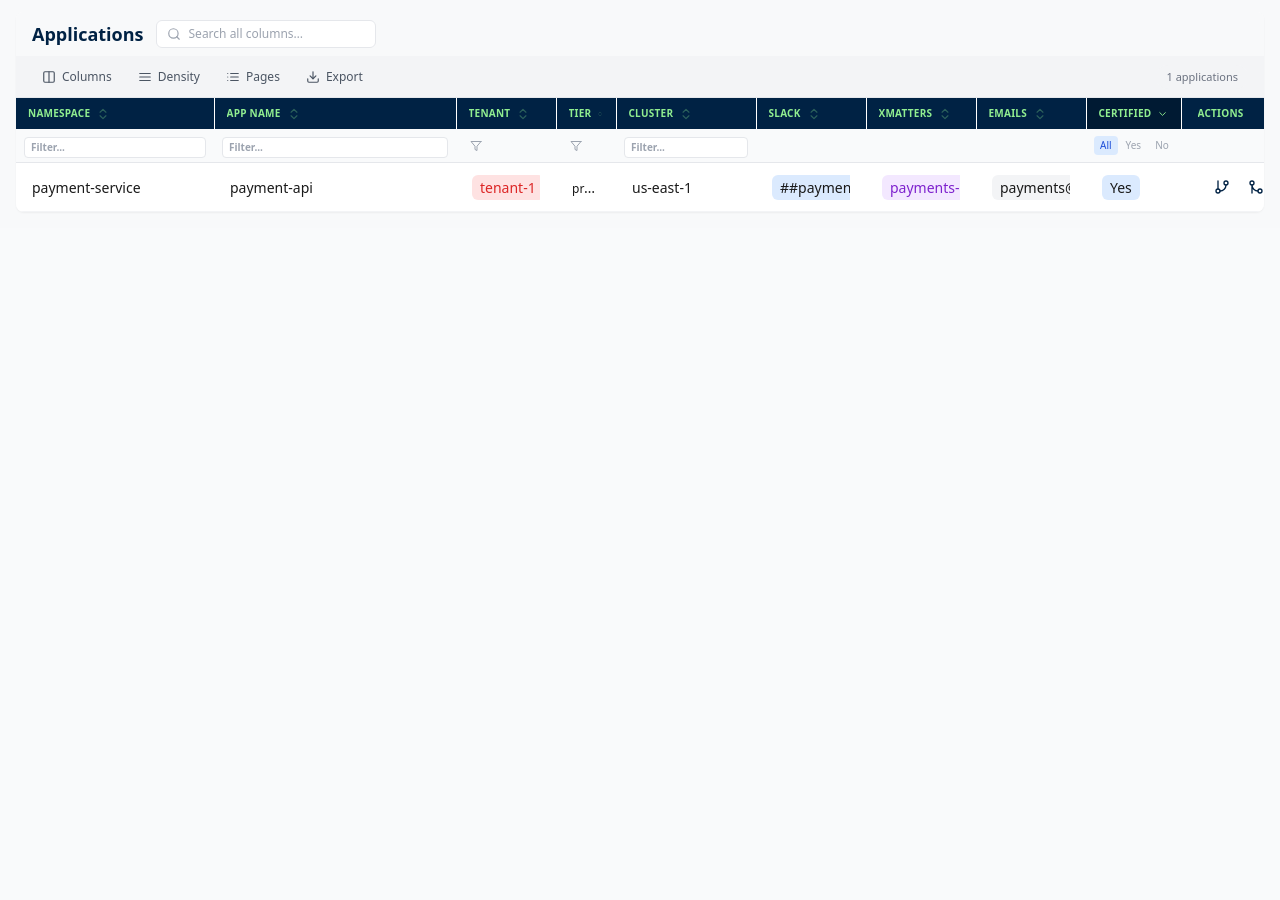
Test: ApplicationsView › Loading spinner dark mode classes › dependency loading spinner shown while fetching downstream has dark:border-t-transparent
What coordinates should you click on to do the following:
click the button titled "View downstream dependencies"
I would click on:
 (1222, 187)
Its box is x1=1208 y1=173 x2=1236 y2=201.
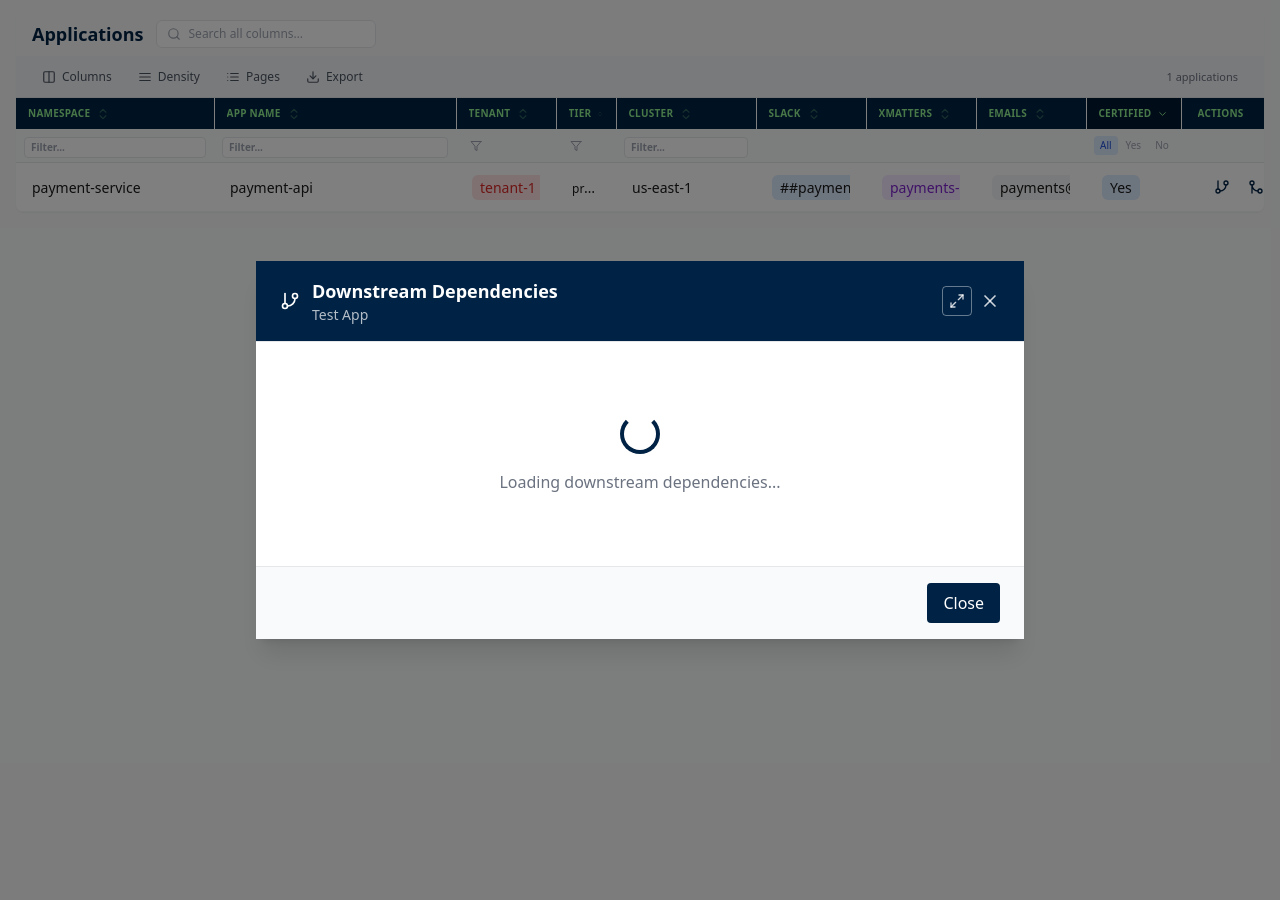
expect the element with class "animate-spin" is shown: met, box x1=620 y1=414 x2=660 y2=454
